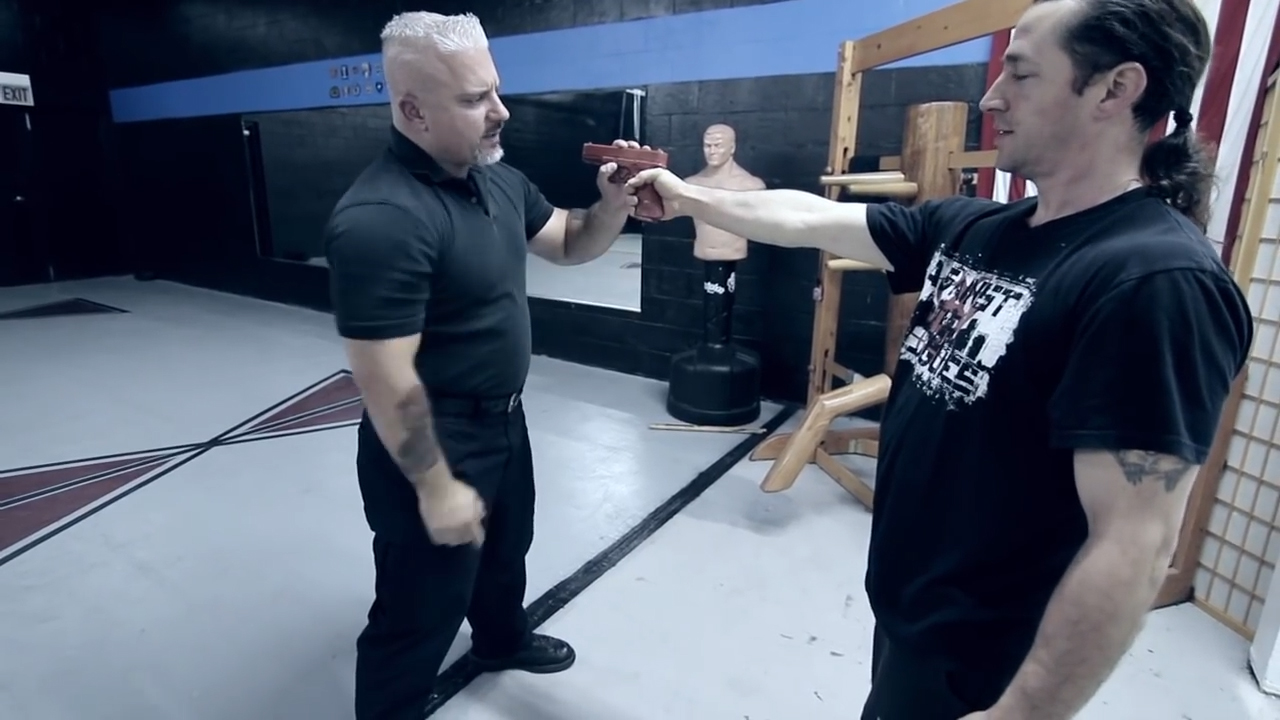pistol: (580, 140, 671, 223)
